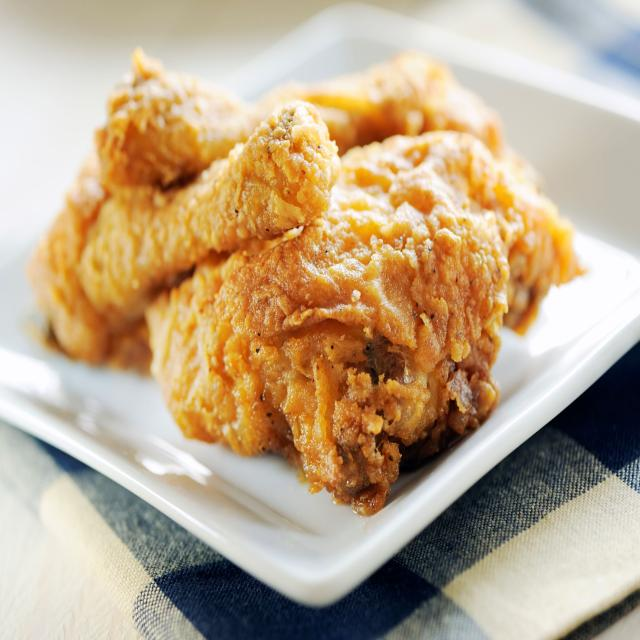pollo: (26, 41, 594, 510)
